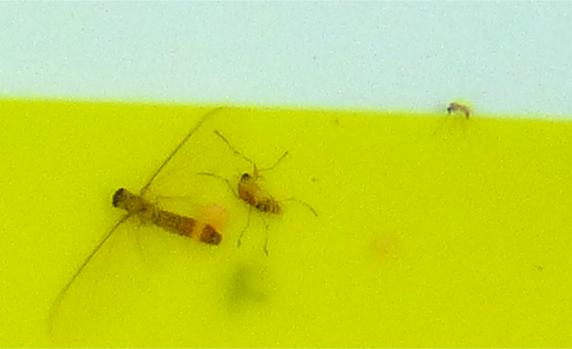Ephemeroptera: (100, 137, 225, 249)
Nematocera: (228, 166, 283, 219), (443, 100, 472, 121)
